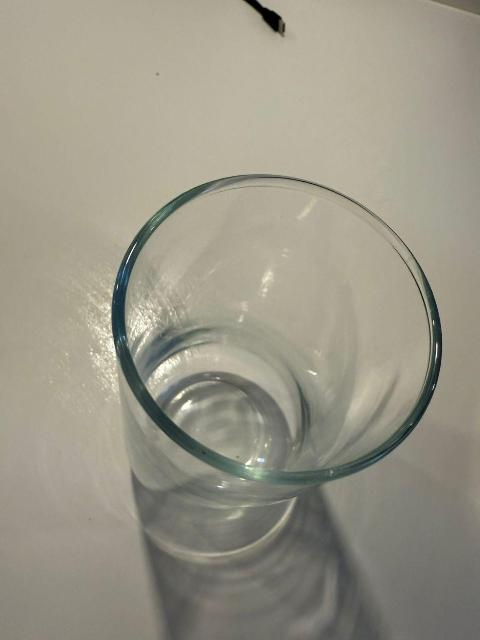Cam: (101, 172, 456, 508)
